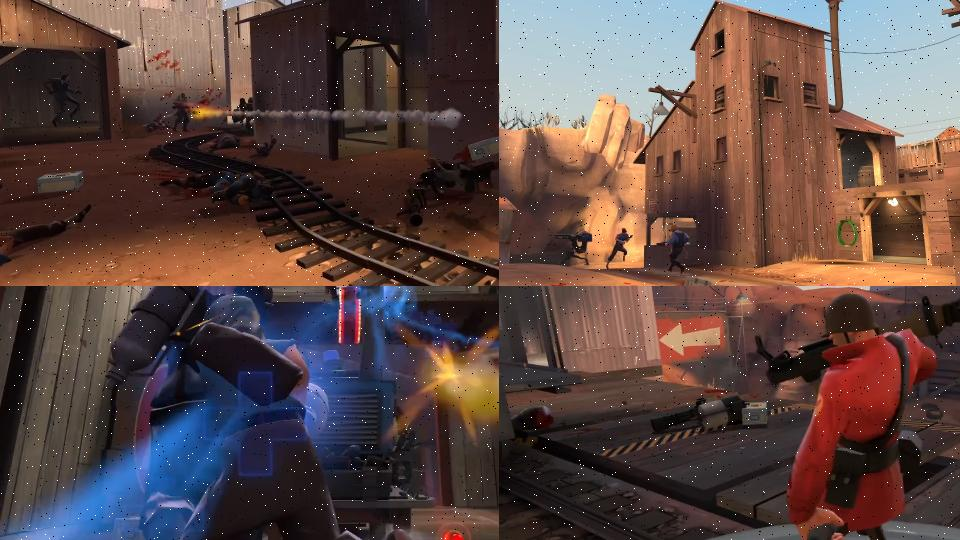Enemy: (163, 289, 459, 540), (102, 286, 329, 540), (751, 286, 960, 540), (159, 169, 276, 206), (43, 74, 84, 128), (649, 226, 692, 275), (161, 93, 205, 132), (609, 226, 639, 268), (320, 286, 368, 310), (231, 96, 254, 134)
